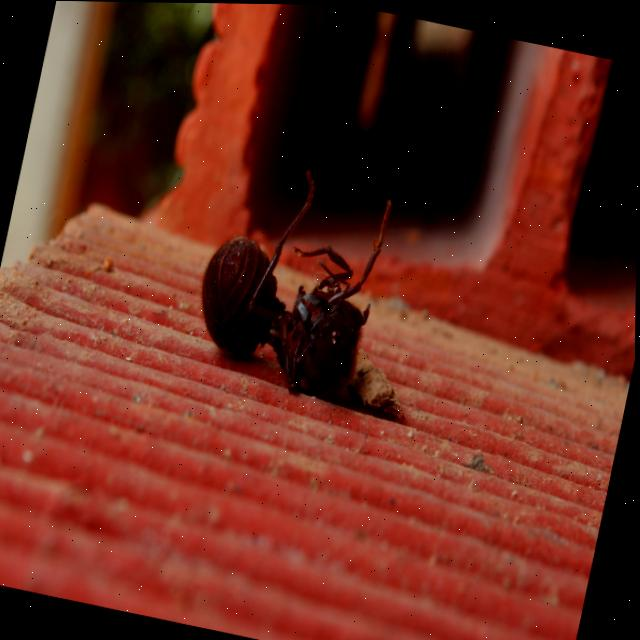Dead-Female-Dealate: (184, 151, 398, 406)
